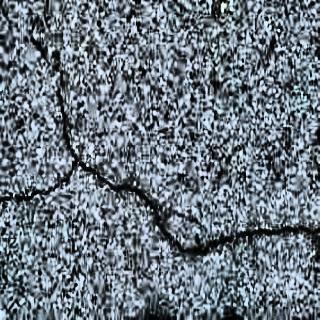crack: (0, 16, 320, 262)
